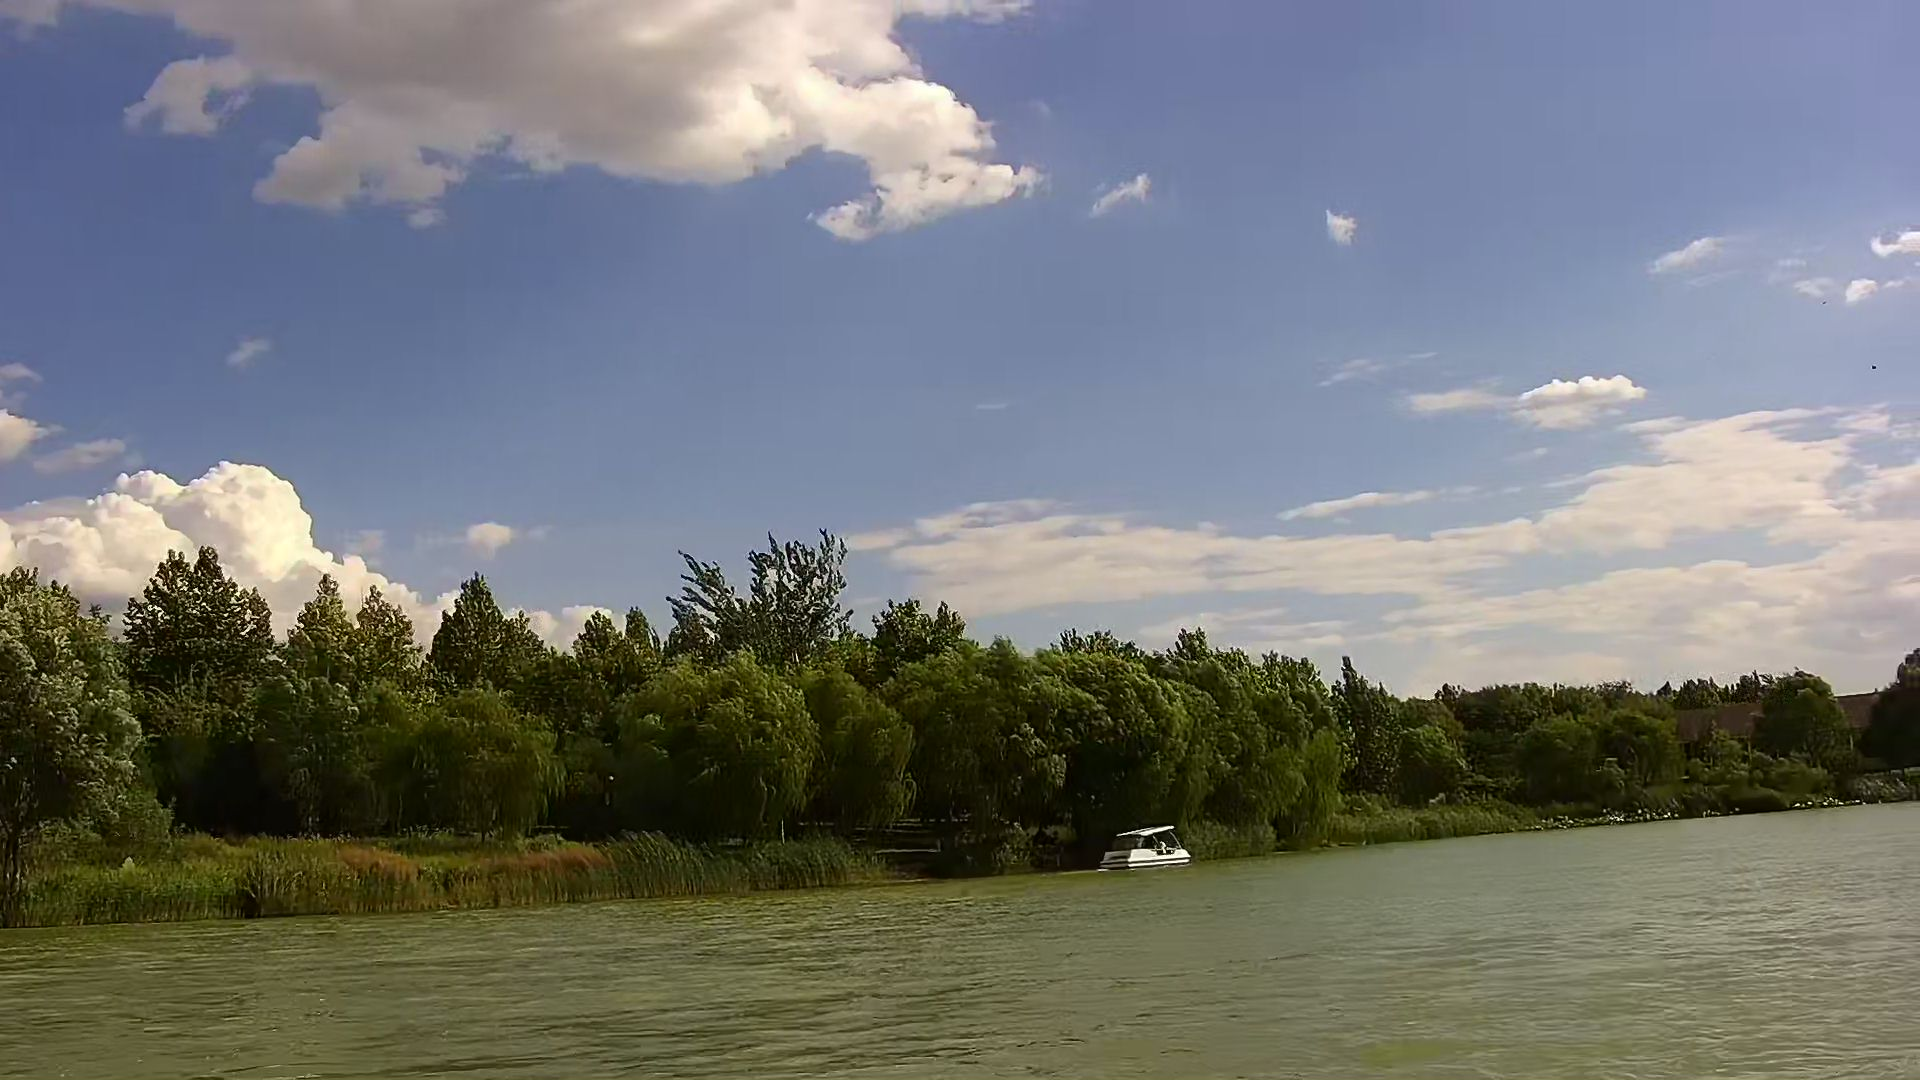boat: (1100, 823, 1191, 870)
